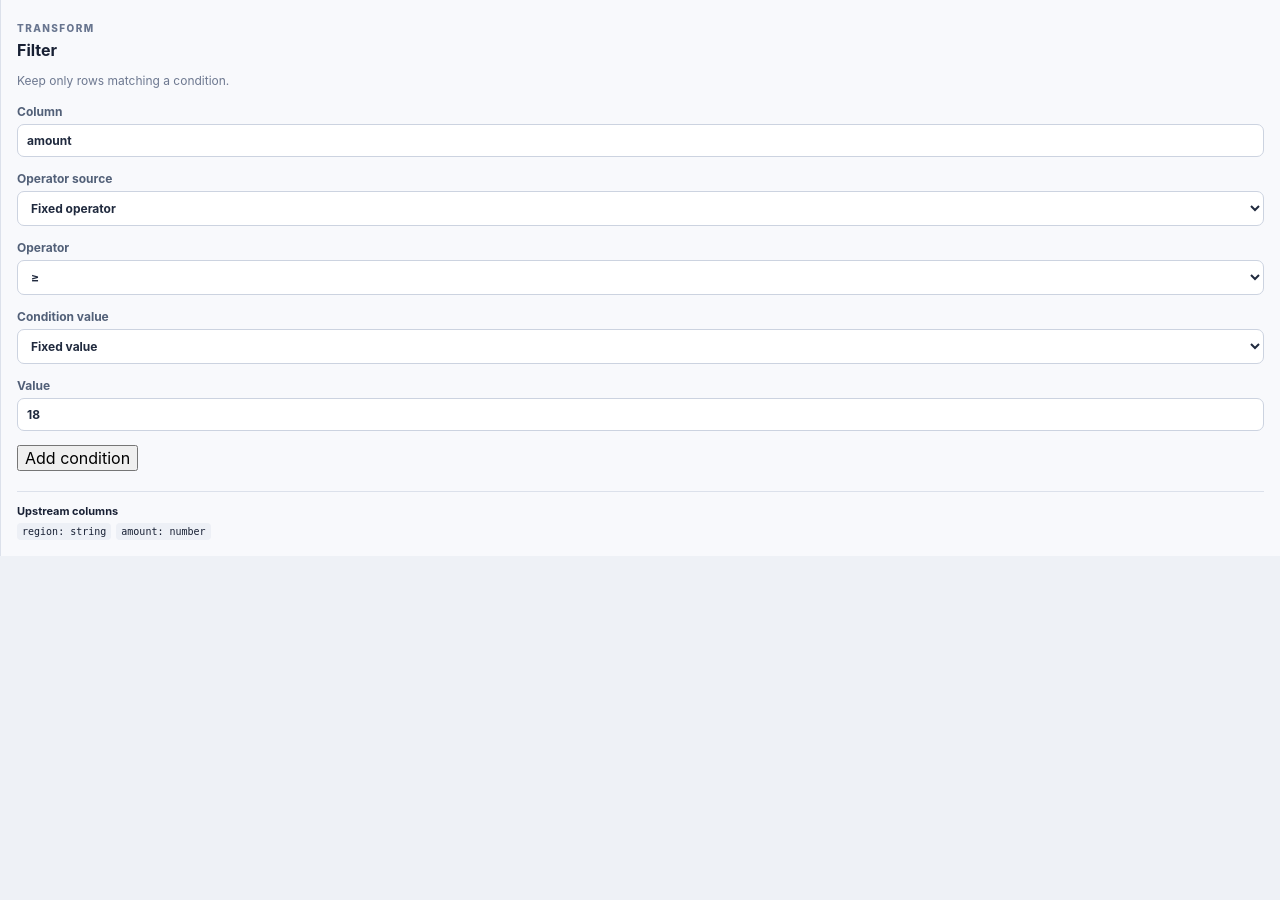
Test: NodeInspector: filter の演算子バインディング（opBinding） › 取得元をエージェント入力にすると opBinding が書かれる（number列では contains を除いた8演算子を明示する）
Select "Agent input" in the dropdown labelled "Operator source": (640, 208) [17, 191, 1264, 226]
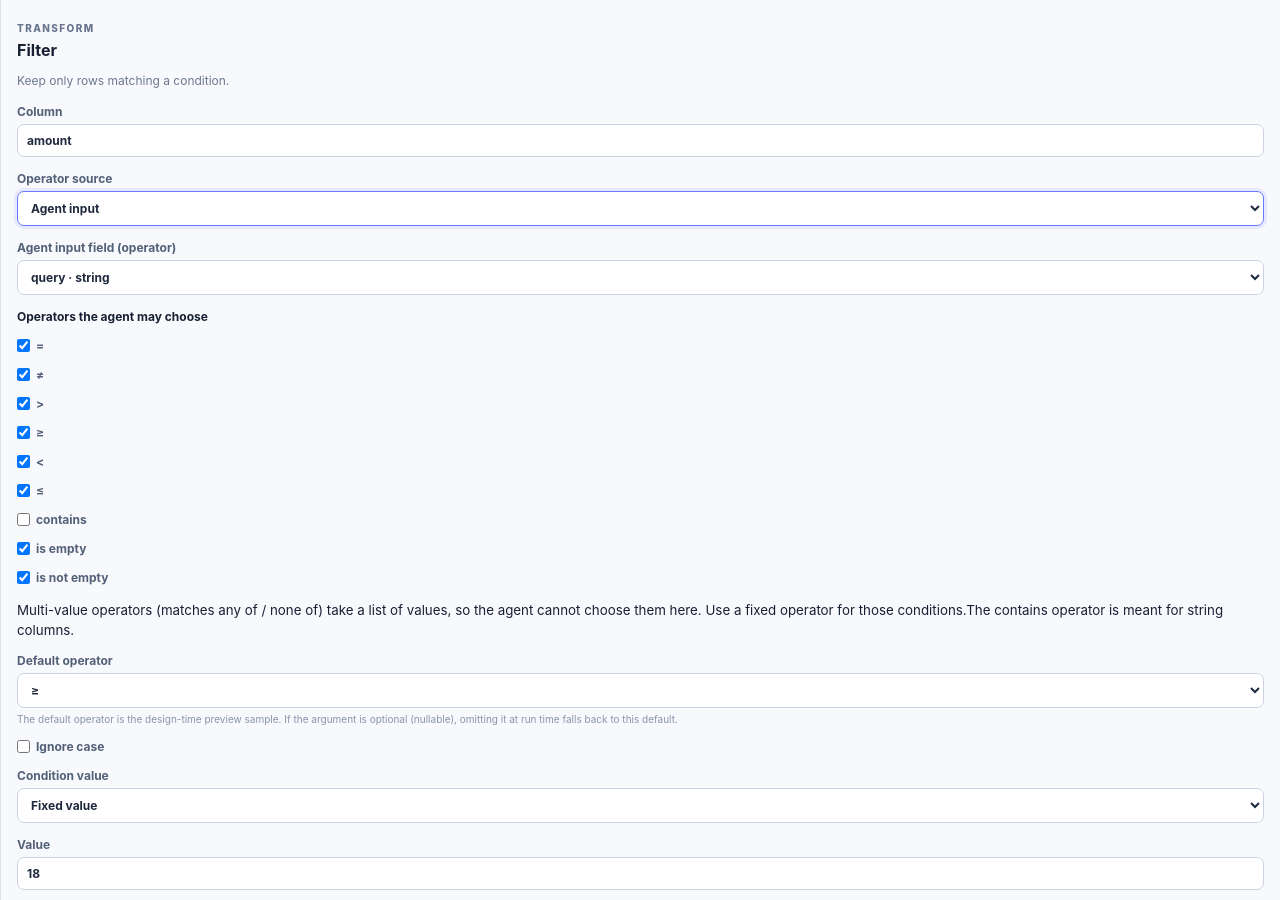
Check: the text "The contains operator is meant for string columns." is shown, box [17, 602, 1223, 638]
Check: the checkbox labelled "contains" is not checked, box [17, 513, 30, 526]
